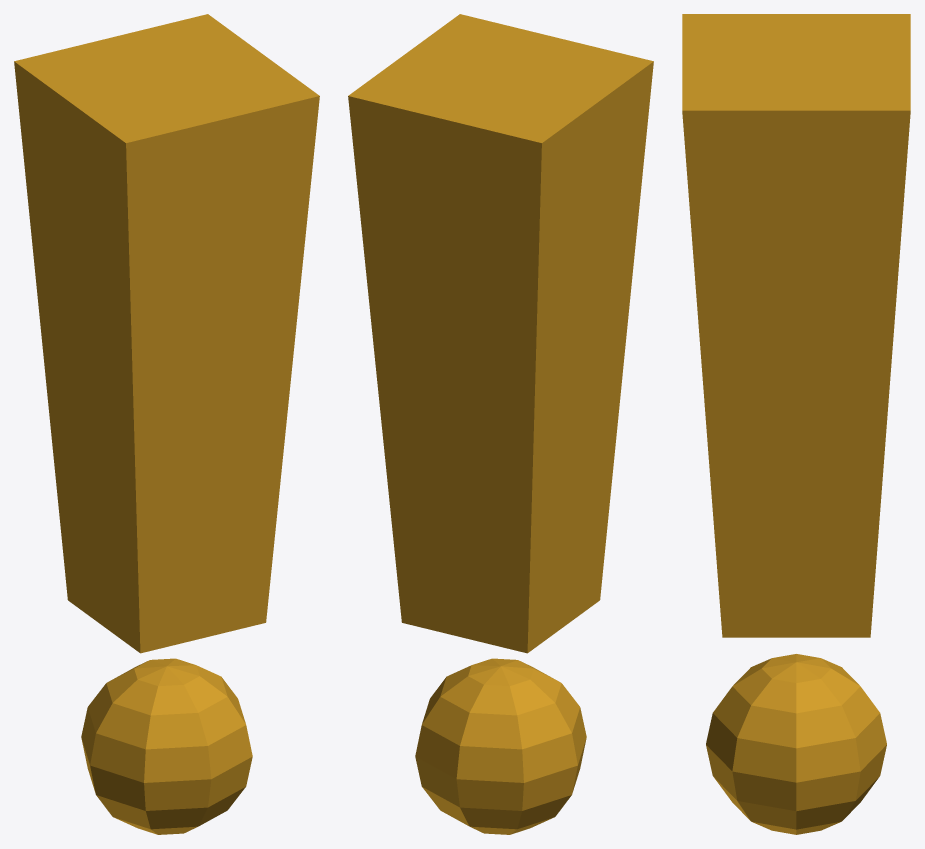
Rendered from QuizSymbol.fbx.
The picture shows the model from 3 angles, left to right: view 1: azimuth 30°, elevation 25°; view 2: azimuth 150°, elevation 25°; view 3: azimuth 270°, elevation 25°; orthographic projection. The views are drawn at different scales.
Parts seen in each view (by area): view 1: QuizSymbol; view 2: QuizSymbol; view 3: QuizSymbol.
Boxes of the visible parts, box(x1,y1,x2,y2) form: QuizSymbol: box(14, 14, 319, 834); QuizSymbol: box(348, 14, 653, 834); QuizSymbol: box(682, 14, 910, 834).
Size of the model in its own units: 71.86 by 265 by 71.86.
